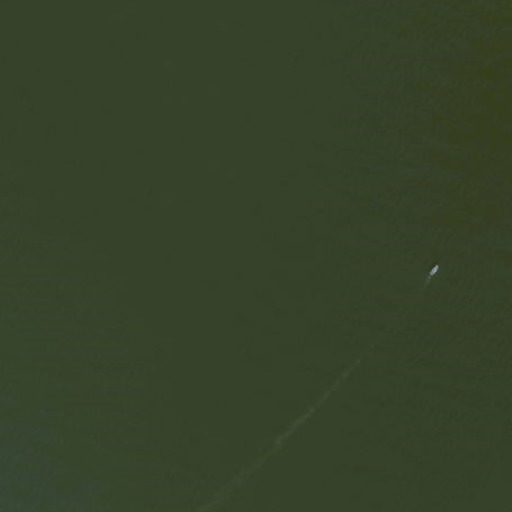ship: (425, 262, 440, 279)
